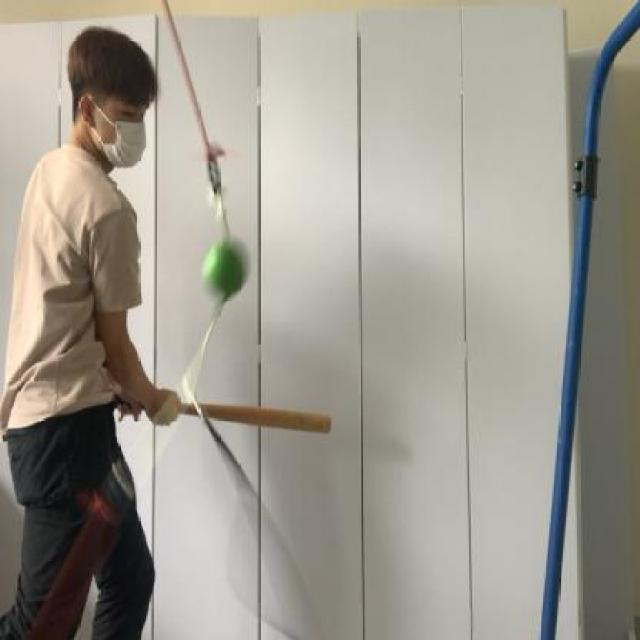baseball: (200, 236, 248, 302)
